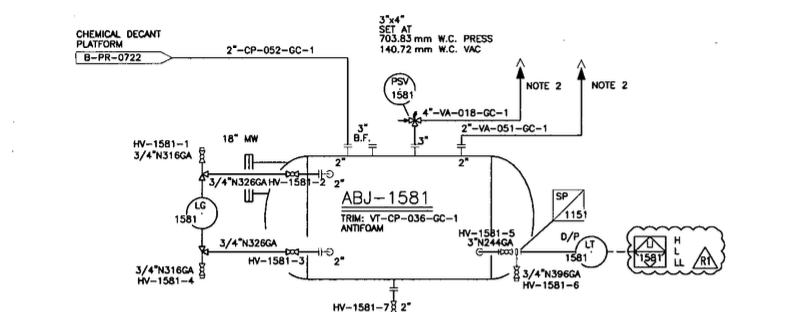Instrument-offset: (173, 194, 228, 231), (565, 230, 610, 271), (377, 66, 418, 106)
